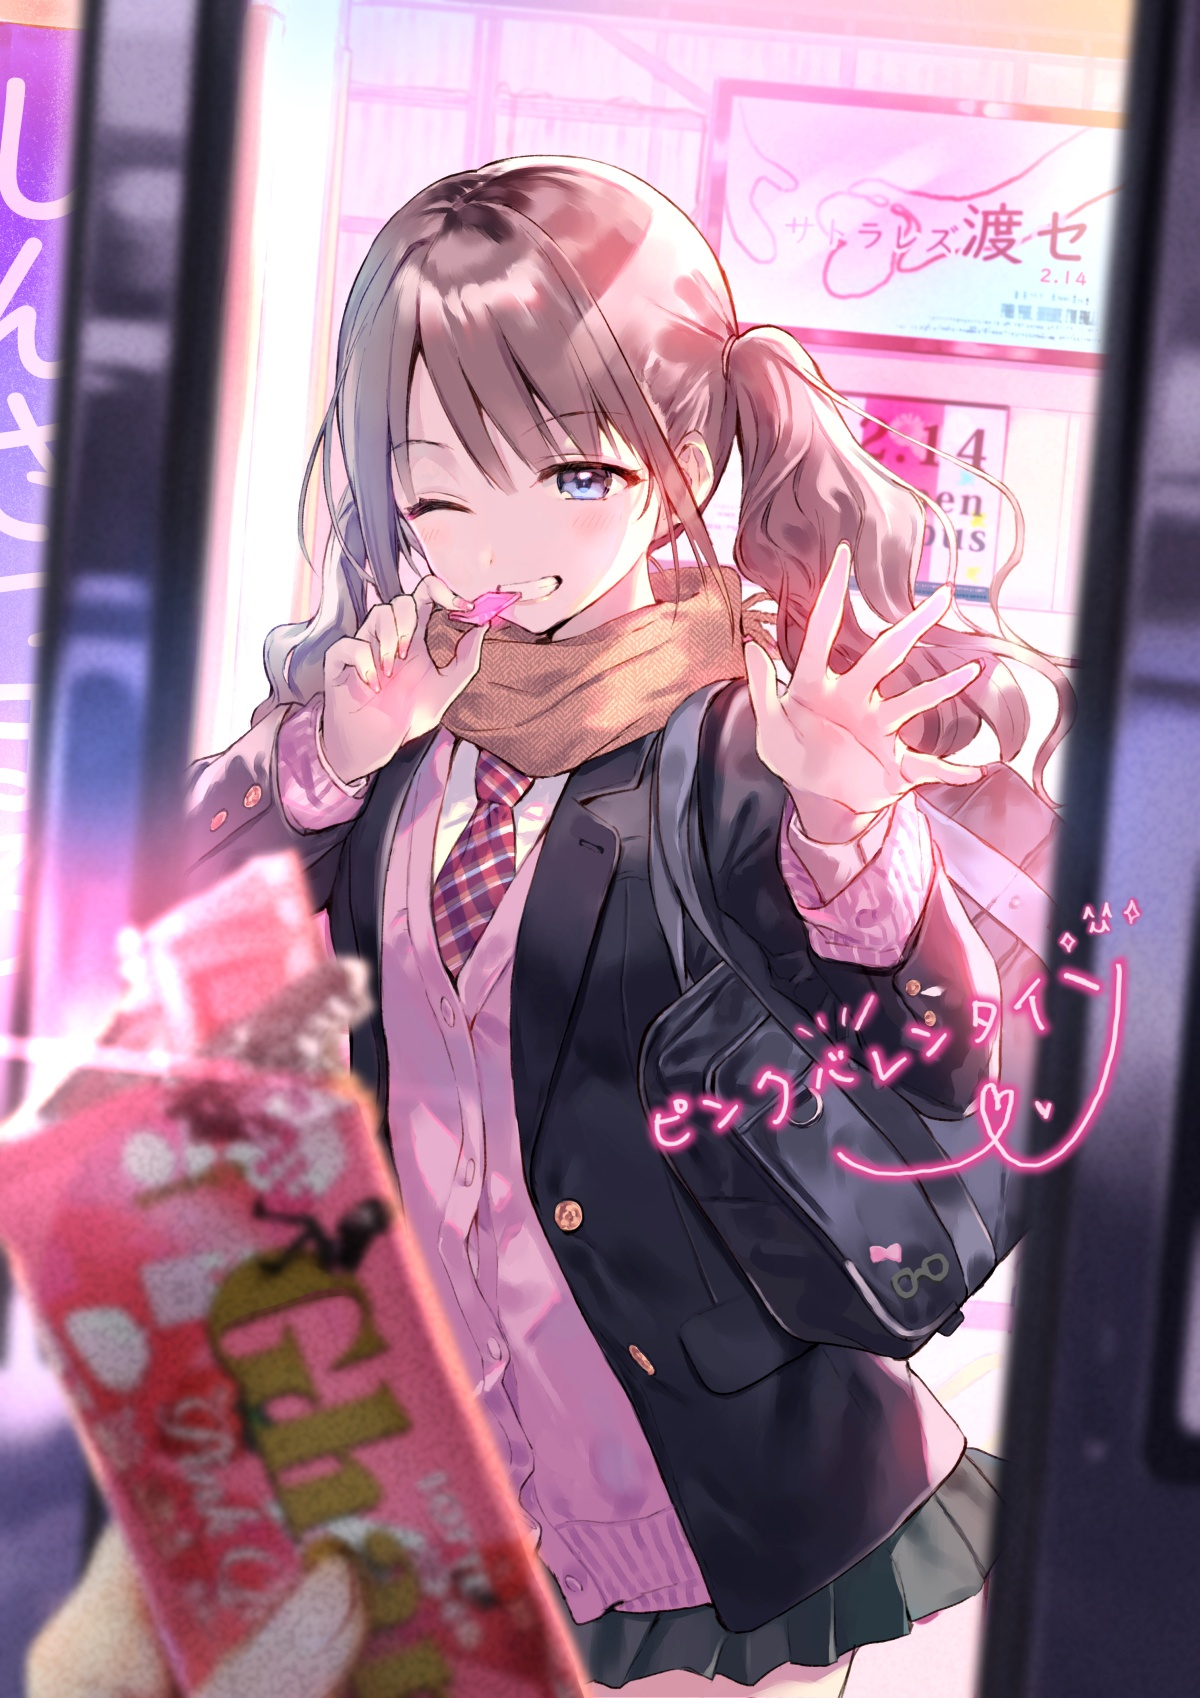纸片人正脸: (316, 145, 766, 647)
